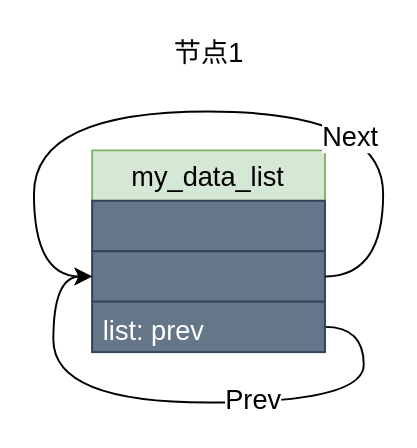
Some shapes in this 417 by 448 pixel diagram are drawn without their labels. Each missing label, with the centre of its shape:
list: next: pixel 207 275
val: 1: pixel 207 225
